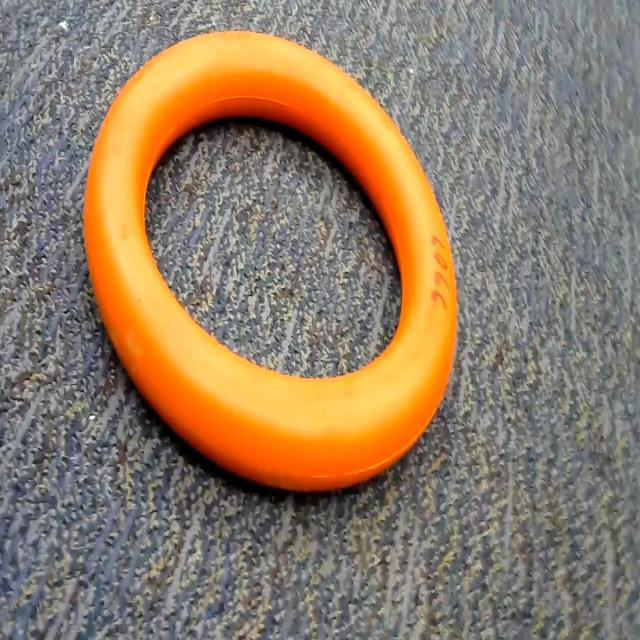note: (77, 0, 471, 519)
